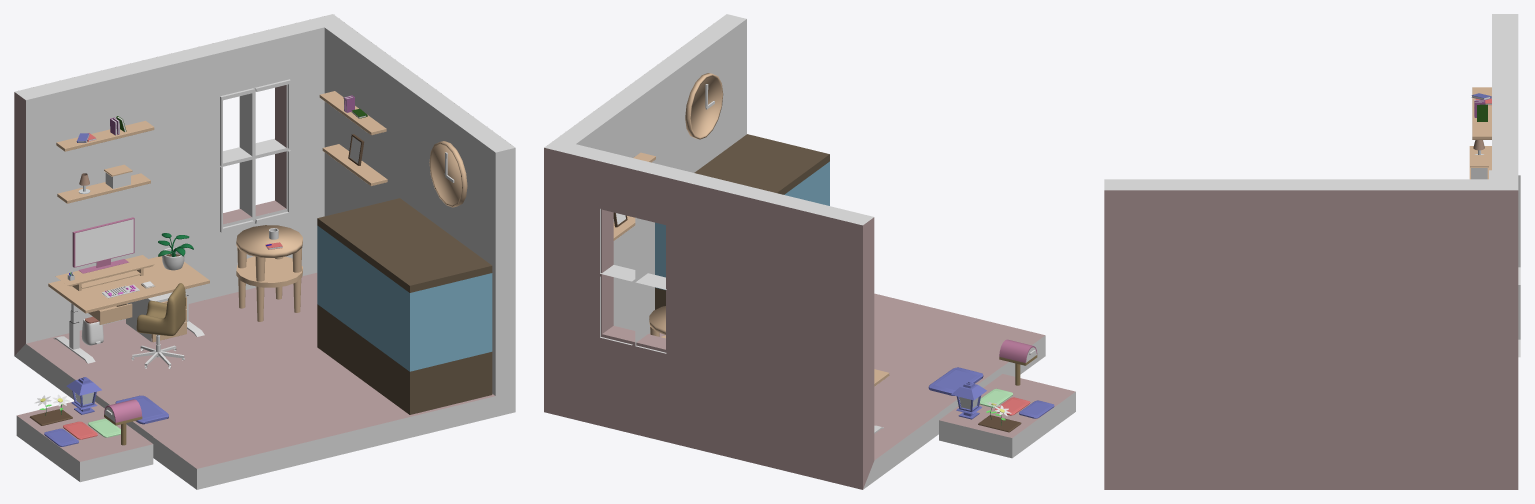
File: 3Droom.glb
The picture shows the model from 3 angles, left to right: view 1: azimuth 30°, elevation 25°; view 2: azimuth 150°, elevation 25°; view 3: azimuth 270°, elevation 25°; orthographic projection. The views are drawn at different scales.
Parts seen in each view (by area): view 1: 3D Enviroment, Cube.074, Glass, DoorStep, Plane, TableTop, Screen, Clock, TableTop.004, TableTop.005, Cylinder.011, Cube.073 (+10 smaller); view 2: 3D Enviroment, DoorStep, Cube.074, Plane, Clock, Glass, MailBox, CarbetMain, Plane.001; view 3: 3D Enviroment, TableTop.004, Plane, TableTop.006.
Part boxes in pixels (left/top/right/bottom): 3D Enviroment: left=14, top=14, right=515, bottom=489; Cube.074: left=317, top=198, right=492, bottom=414; Glass: left=317, top=225, right=492, bottom=371; DoorStep: left=16, top=401, right=153, bottom=482; Plane: left=220, top=79, right=290, bottom=232; TableTop: left=48, top=256, right=209, bottom=313; Screen: left=75, top=219, right=133, bottom=266; Clock: left=429, top=141, right=467, bottom=207; TableTop.004: left=56, top=120, right=154, bottom=203; TableTop.005: left=319, top=91, right=387, bottom=186; Cylinder.011: left=236, top=225, right=302, bottom=257; Cube.073: left=136, top=283, right=185, bottom=335; 3D Enviroment: left=544, top=14, right=1045, bottom=489; DoorStep: left=939, top=374, right=1075, bottom=458; Cube.074: left=655, top=134, right=829, bottom=309; Plane: left=600, top=208, right=666, bottom=353; Clock: left=685, top=73, right=723, bottom=139; Glass: left=655, top=161, right=829, bottom=290; MailBox: left=999, top=339, right=1037, bottom=385; CarbetMain: left=928, top=367, right=983, bottom=395; Plane.001: left=951, top=381, right=986, bottom=419; 3D Enviroment: left=1104, top=14, right=1518, bottom=489; TableTop.004: left=1469, top=87, right=1491, bottom=179; Plane: left=1489, top=170, right=1520, bottom=357; TableTop.006: left=1470, top=155, right=1488, bottom=179.
Size of what is drawn, in the model's own units: 24.32 by 16.02 by 19.73.
